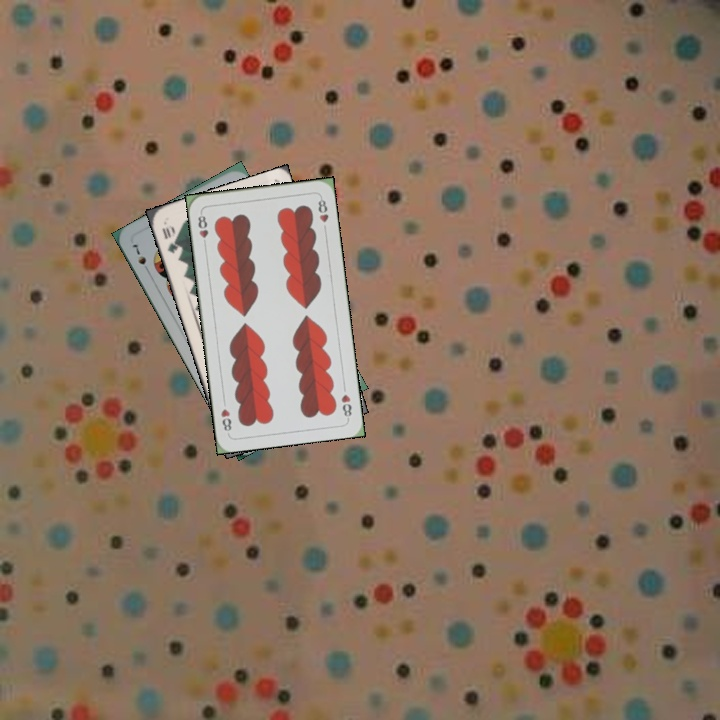G10: (158, 221, 182, 256)
H8: (194, 209, 211, 249), (337, 381, 354, 421)
S7: (128, 238, 152, 276)
